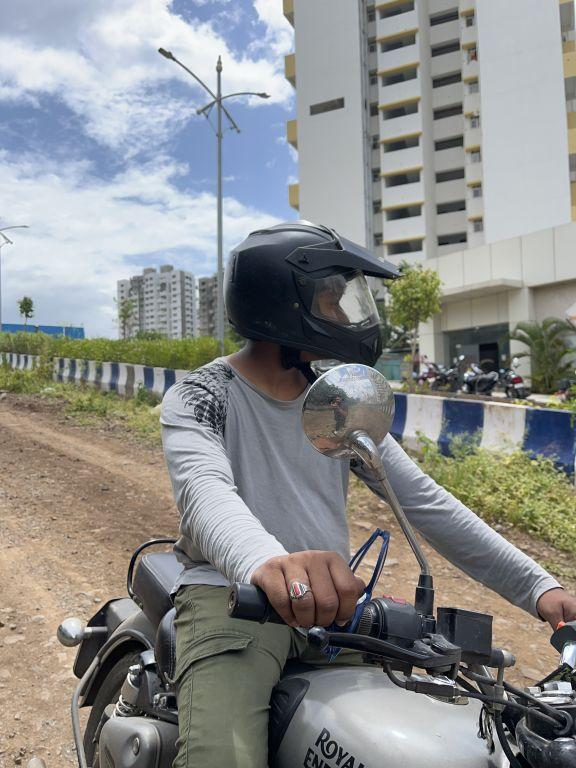helmet: (212, 214, 428, 376)
